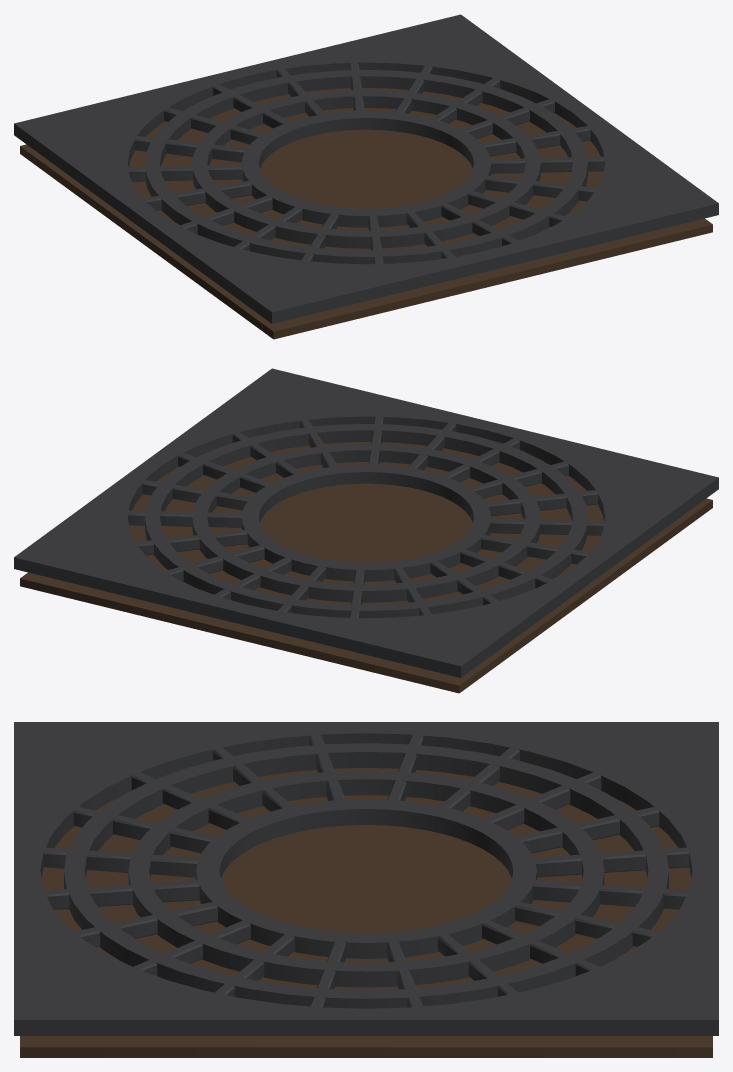
File: TreeGrate.fbx
3 views of the same model, one above another, from view 1: azimuth 30°, elevation 25°; view 2: azimuth 150°, elevation 25°; view 3: azimuth 270°, elevation 25° (orthographic). The views are drawn at different scales.
Visible parts, largest first — view 1: TreeGrate_Mesh; view 2: TreeGrate_Mesh; view 3: TreeGrate_Mesh.
Boxes of the visible parts, x1=… form: TreeGrate_Mesh: x1=14, y1=14, x2=718, y2=339; TreeGrate_Mesh: x1=14, y1=368, x2=718, y2=693; TreeGrate_Mesh: x1=14, y1=722, x2=718, y2=1057.
Size of the model in its own units: 1.2 by 0.076 by 1.2.
